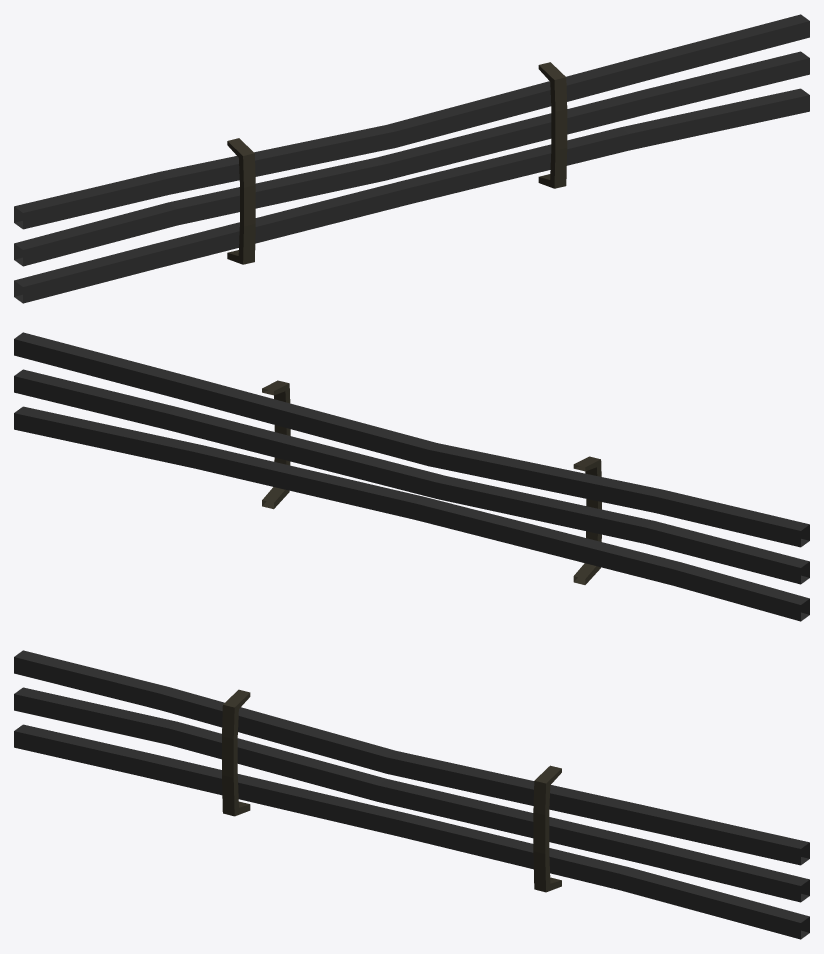
Rendered from SW_ENV_Wires3_FlatWall_2m.fbx.
3 views of the same model, one above another, from view 1: azimuth 30°, elevation 25°; view 2: azimuth 150°, elevation 25°; view 3: azimuth 330°, elevation 25° (orthographic).
Parts seen in each view (by area): view 1: SW_ENV_Wires3_FlatWall_2m; view 2: SW_ENV_Wires3_FlatWall_2m; view 3: SW_ENV_Wires3_FlatWall_2m.
Boxes of the visible parts, x1,y1,x2,y2 form: SW_ENV_Wires3_FlatWall_2m: [14, 14, 809, 303]; SW_ENV_Wires3_FlatWall_2m: [14, 332, 809, 621]; SW_ENV_Wires3_FlatWall_2m: [14, 650, 809, 939].
Bounding box in the file's own units: 200 × 28.66 × 7.36.
